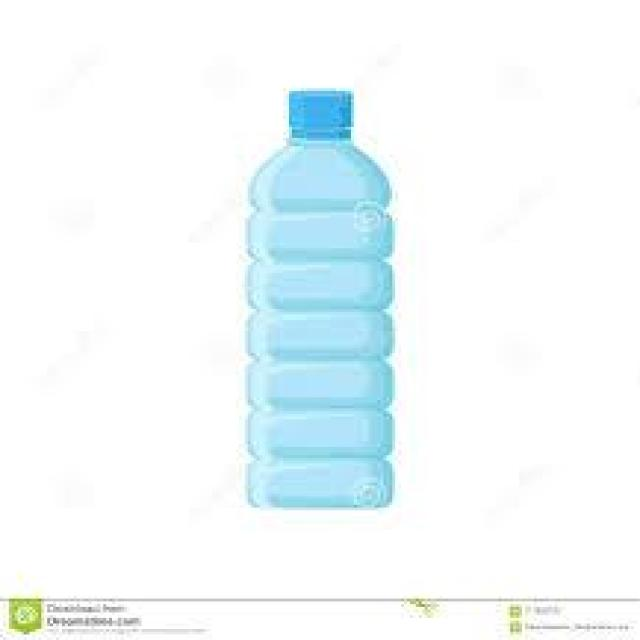plastic: (249, 83, 399, 511)
